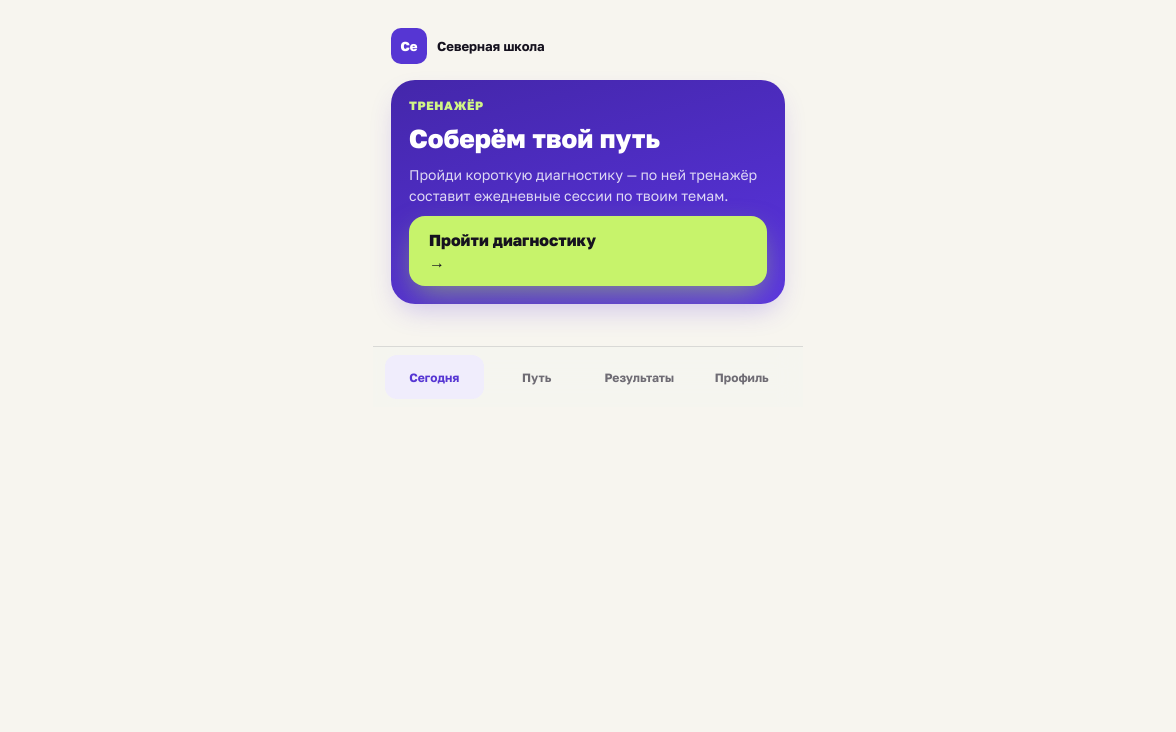
it: Home screen transitions › shows an actionable trainer message when mistake replay has no source mistakes
Step 1. Click the button "Результаты" → (639, 377), box [590,355,688,399]
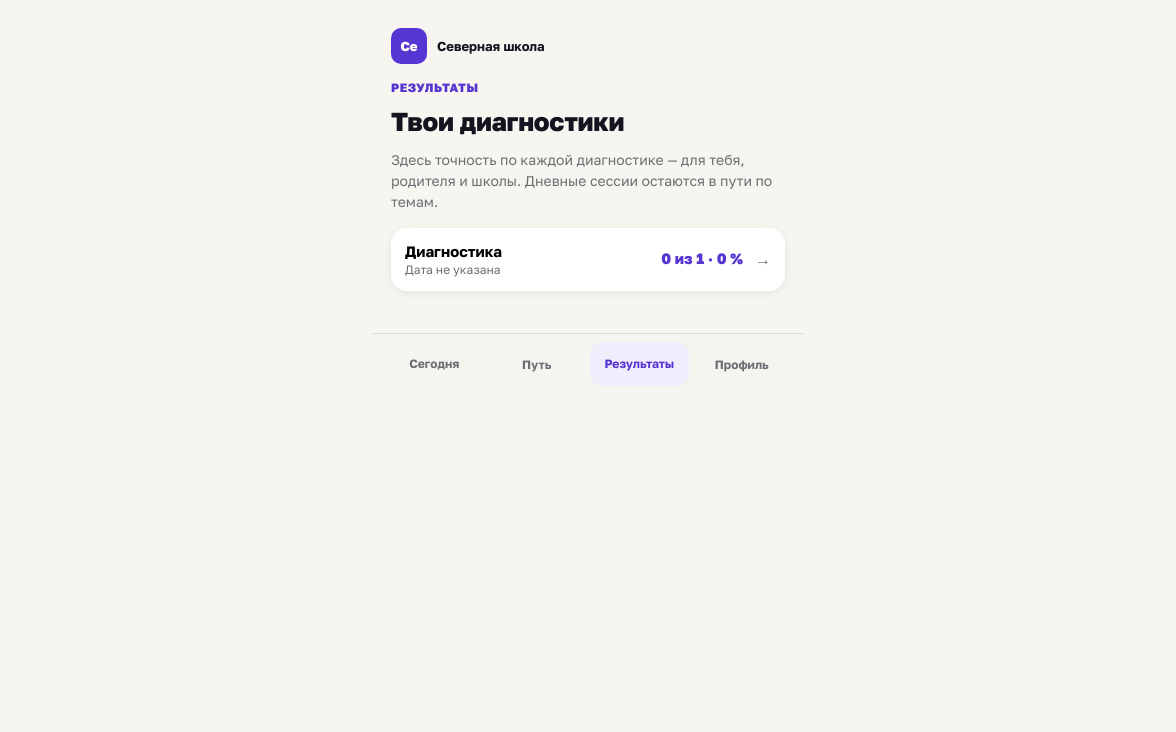
Step 2. Click the button with class "results-card" → (453, 251), box [391,228,785,291]
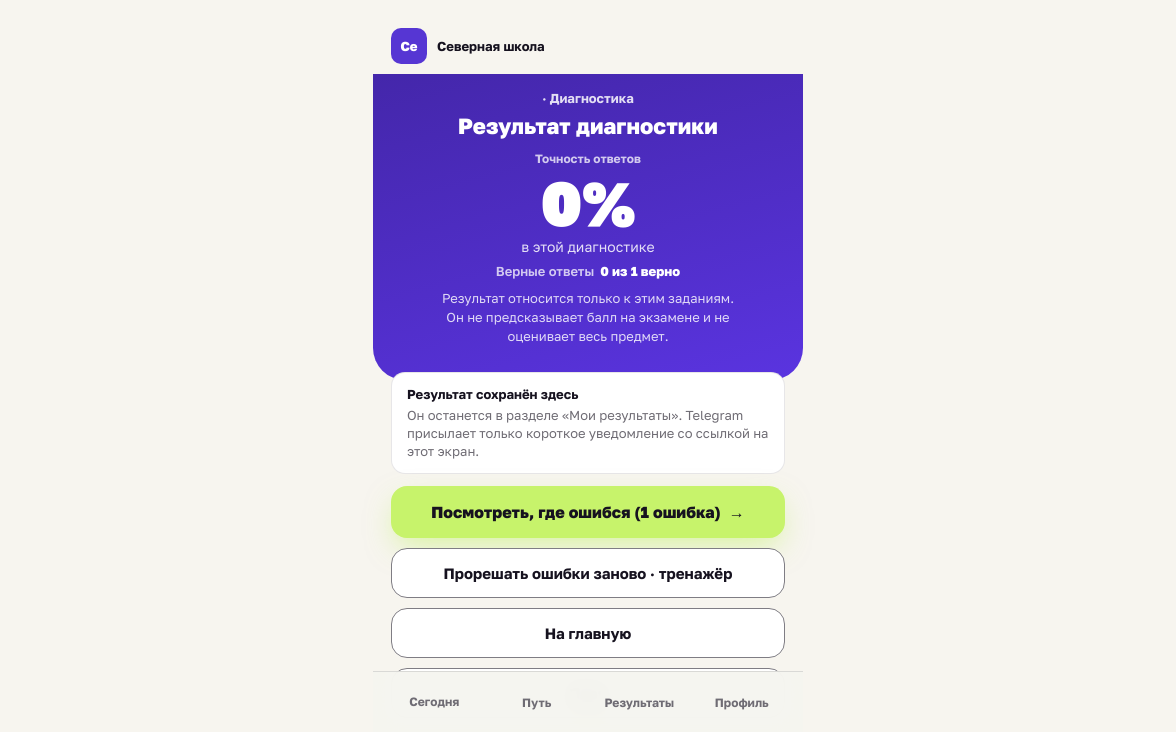
Step 3. Click the button with class "secondary-button" that starts with "Прорешать ошибки заново · тренажёр" → (588, 573), box [391,548,785,598]
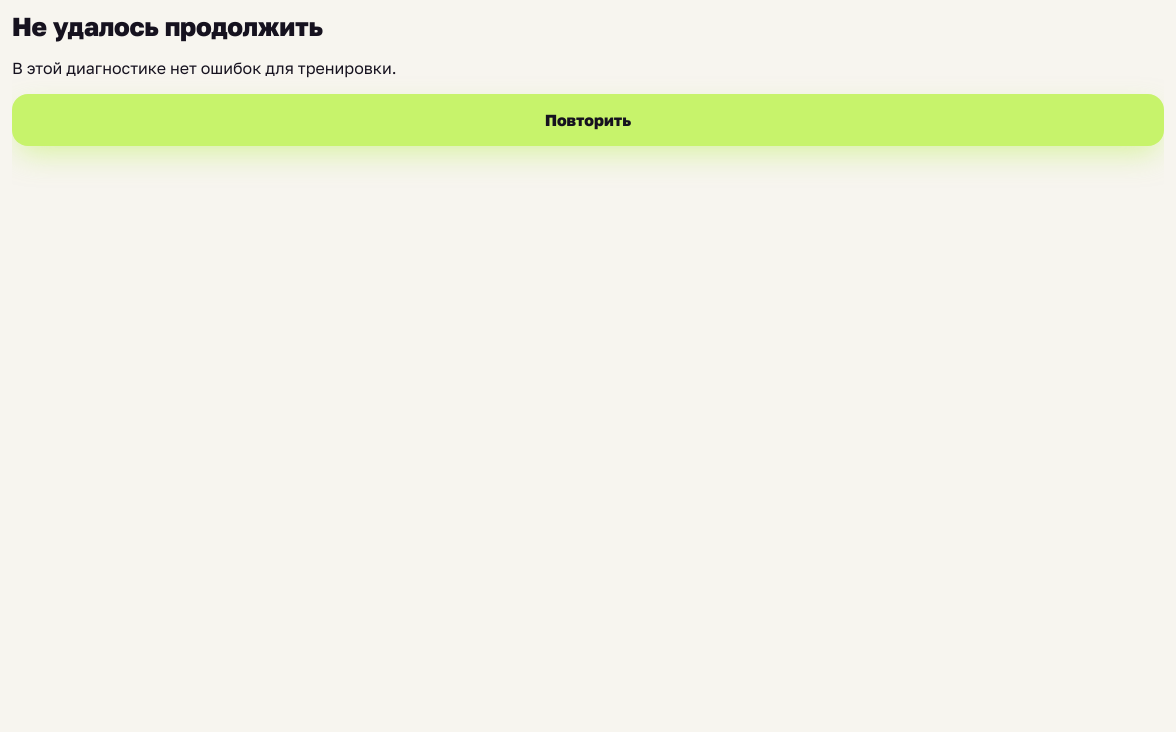
Expected: the text "нет ошибок для тренировки" is shown, [12,58,397,78]
